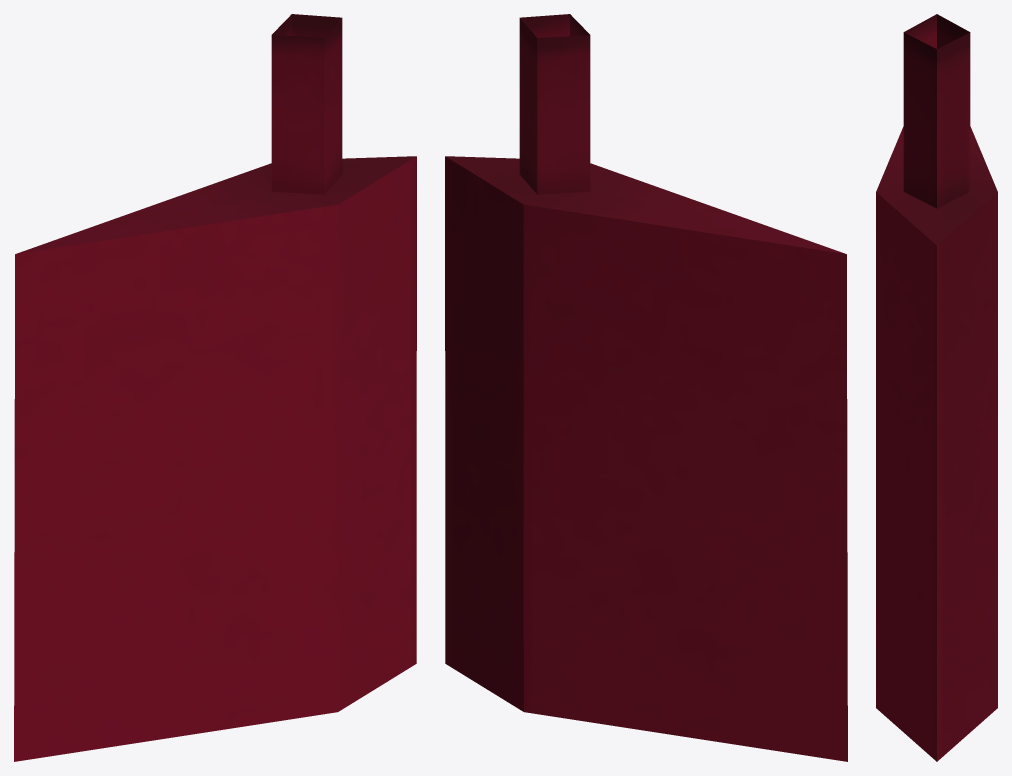
File: hms_clyde_rudder.gltf
3 renders of one model, left to right at view 1: azimuth 30°, elevation 25°; view 2: azimuth 150°, elevation 25°; view 3: azimuth 270°, elevation 25°, orthographic.
Visible parts, largest first — view 1: hull_Hull_0; view 2: hull_Hull_0; view 3: hull_Hull_0.
Part boxes in pixels (x1,y1,x2,y2): hull_Hull_0: (14,14,416,761); hull_Hull_0: (445,14,847,761); hull_Hull_0: (876,14,997,761).
Size of the model in its own units: 1.31 by 2.07 by 0.3377.
1 material, 1 textured.
